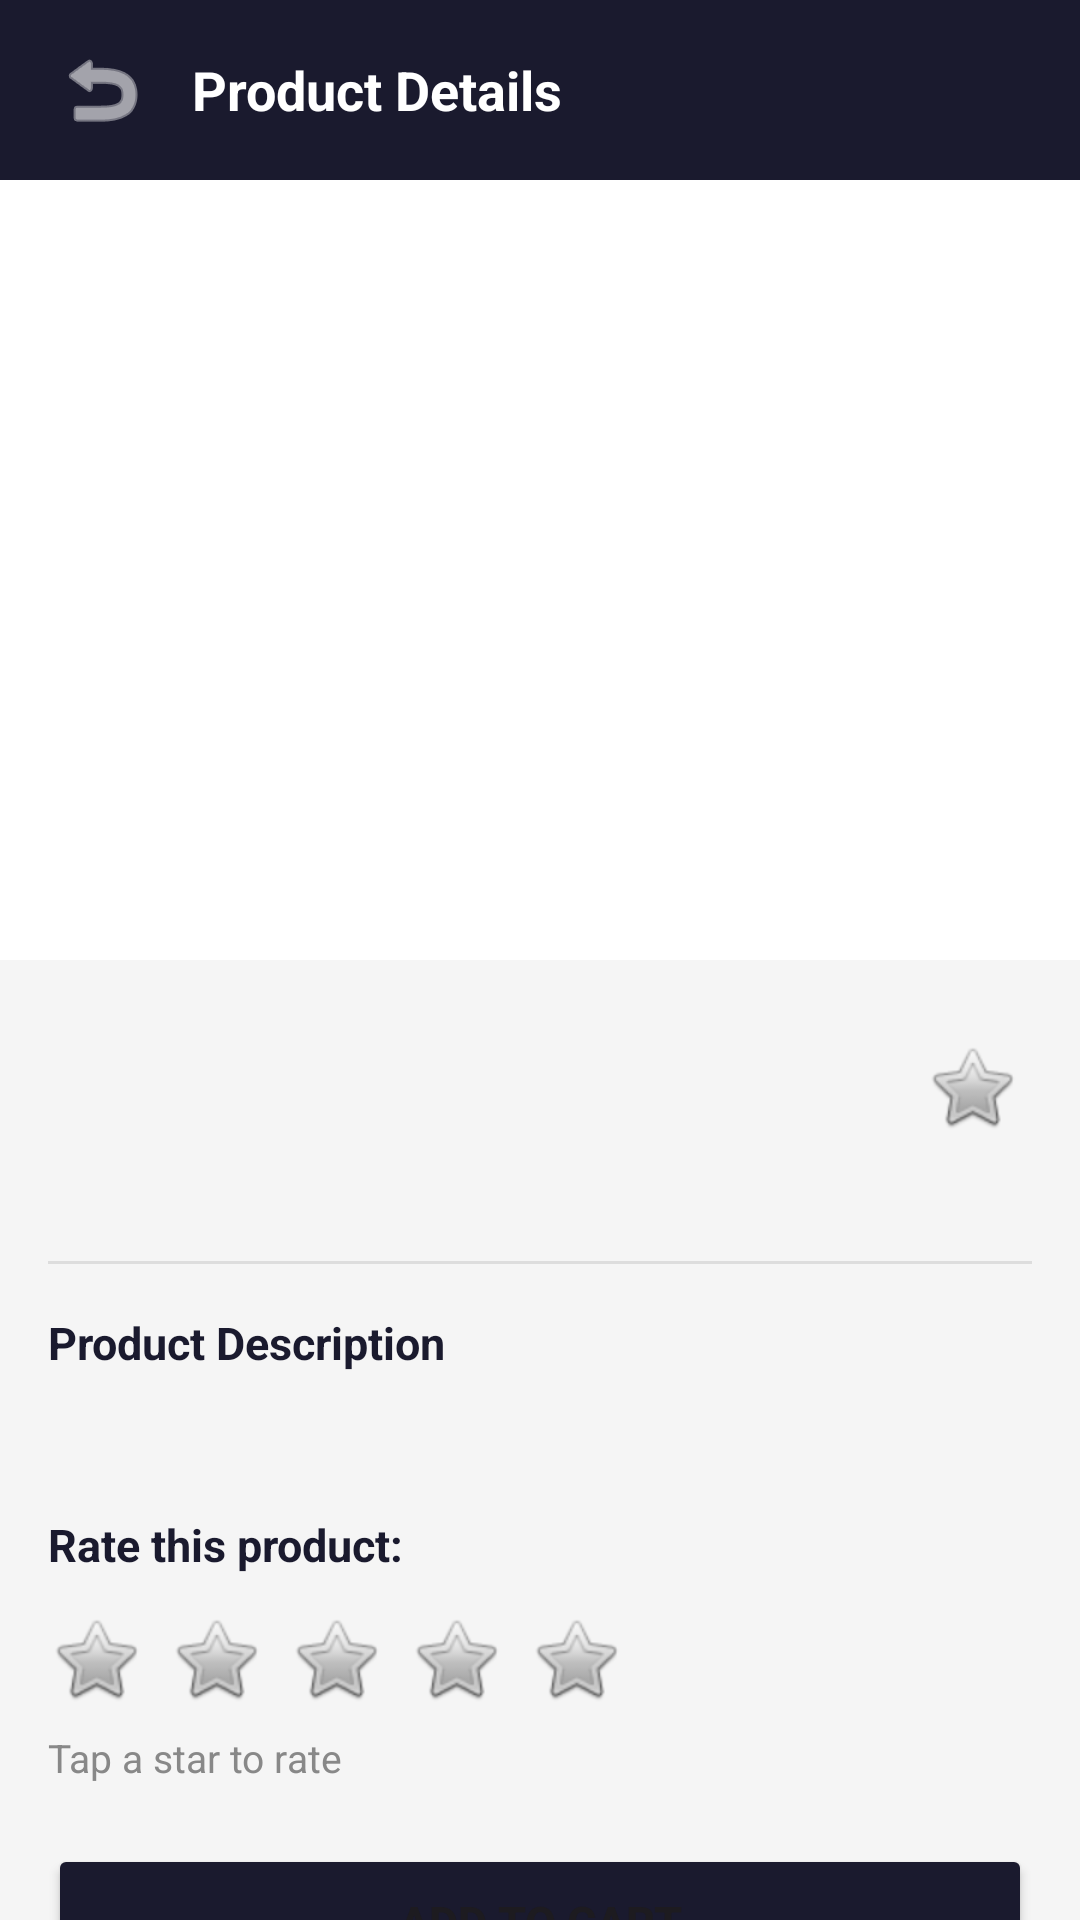

Screen size 1080w x 1920h. Icon name, then its box in pixels as rect(x1, y1, x2, y2):
1 star: rect(57, 1621, 137, 1699)
2 stars: rect(177, 1621, 257, 1699)
3 stars: rect(297, 1621, 377, 1699)
4 stars: rect(417, 1621, 497, 1699)
5 stars: rect(537, 1621, 617, 1699)
Back: rect(69, 59, 138, 122)
Like: rect(933, 1049, 1013, 1127)
